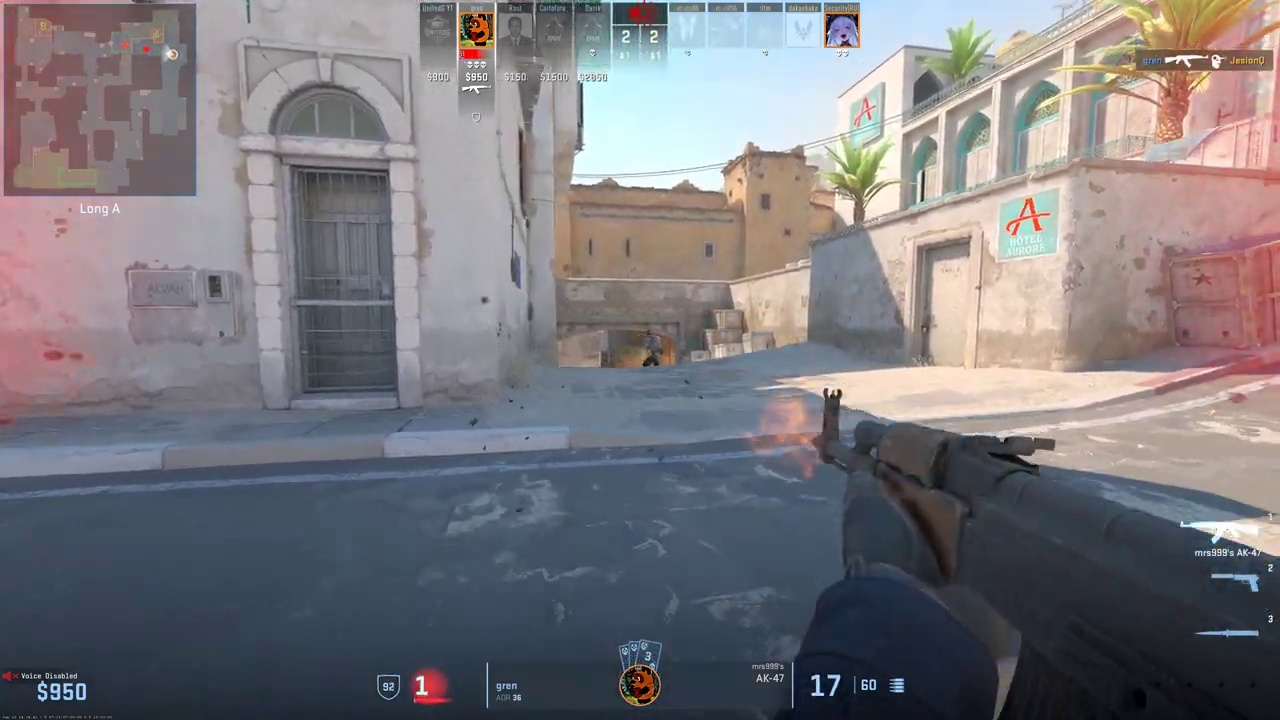Terrorist: (642, 331, 662, 367)
